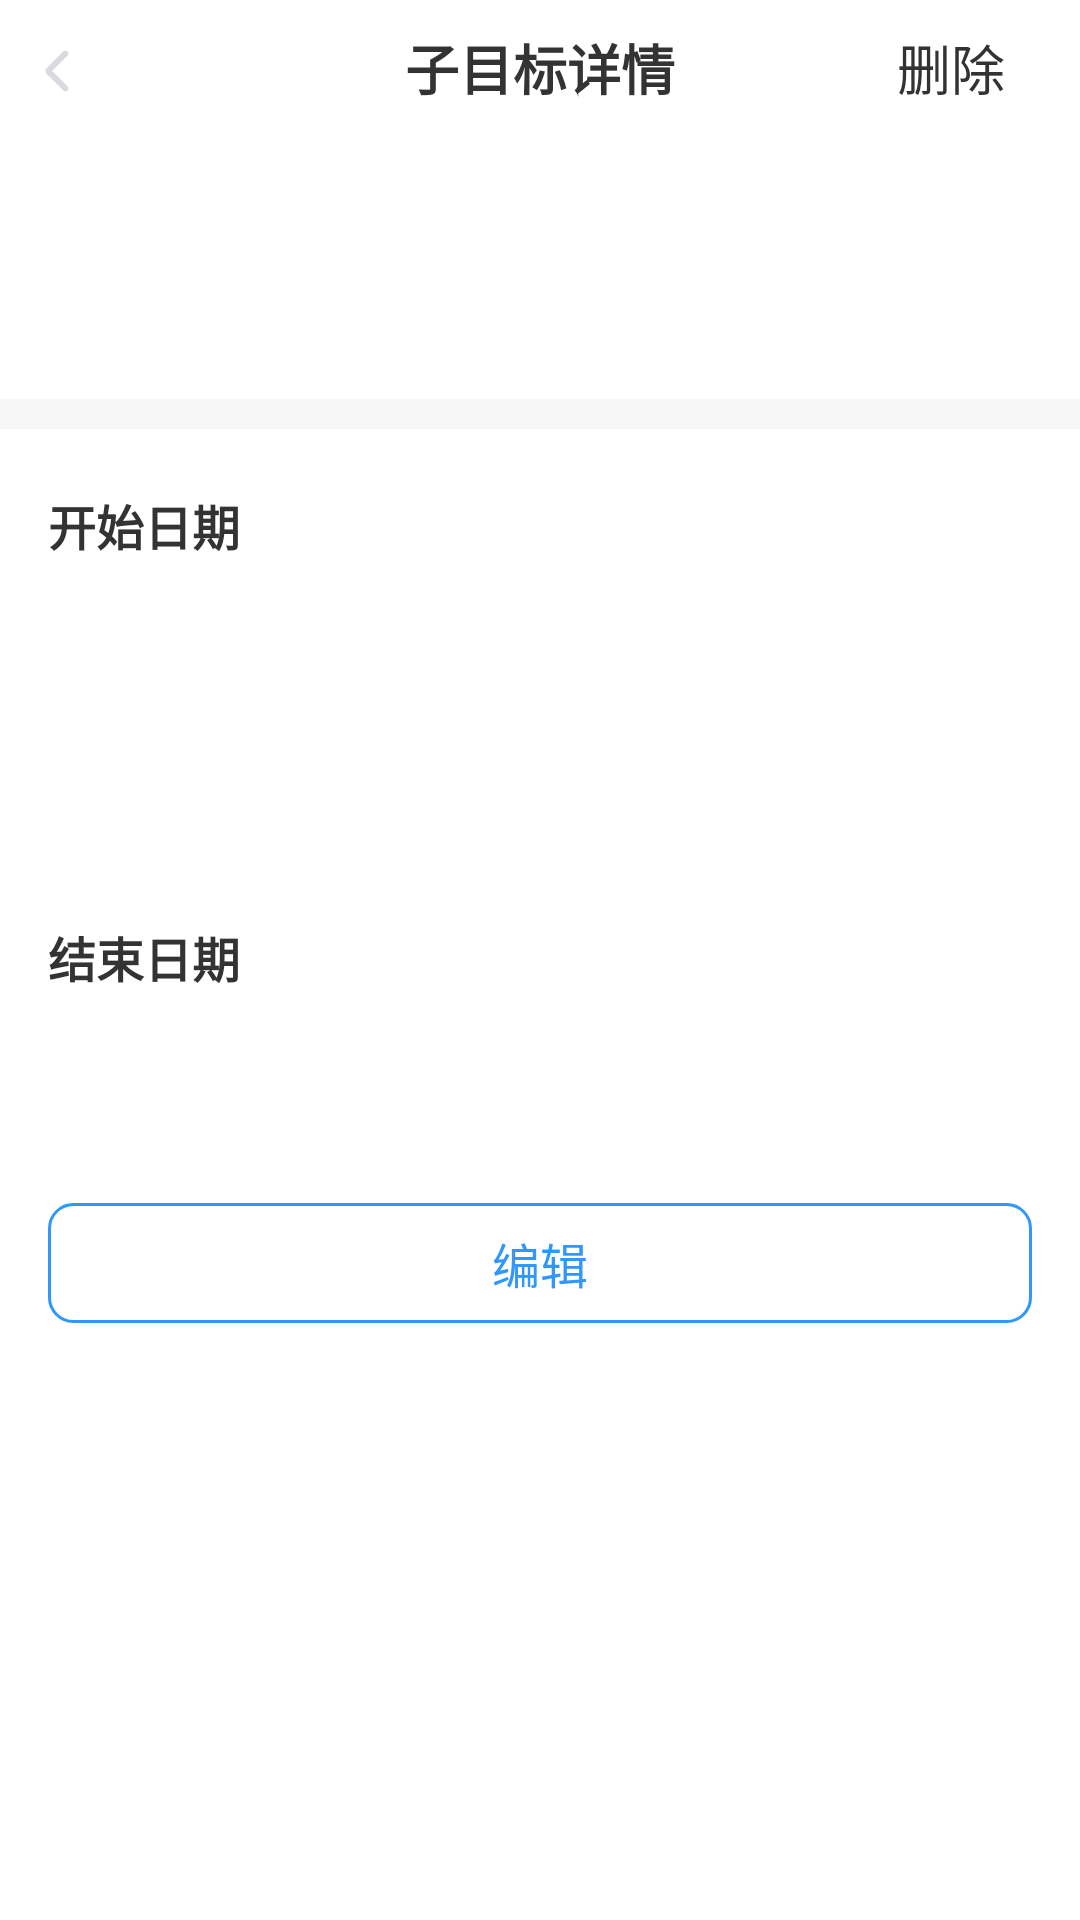

Where to tap for icons on this 1080w x 1920h app screen, as (x,y):
back: (57,71)
